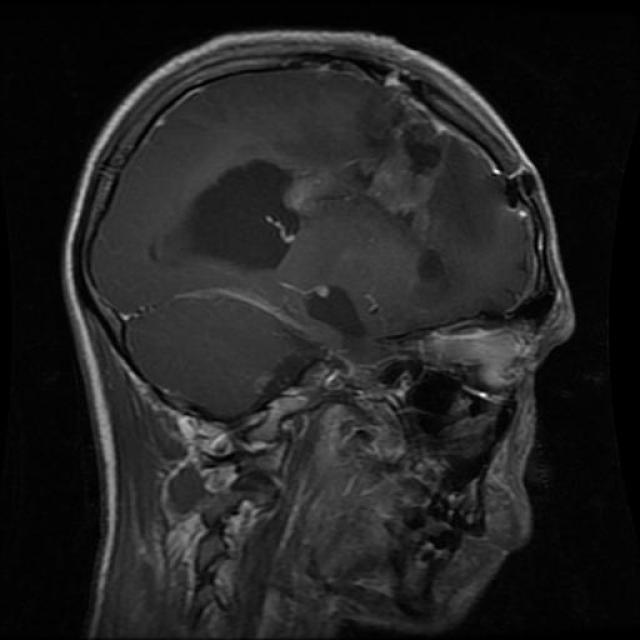glioma: (159, 142, 305, 296)
